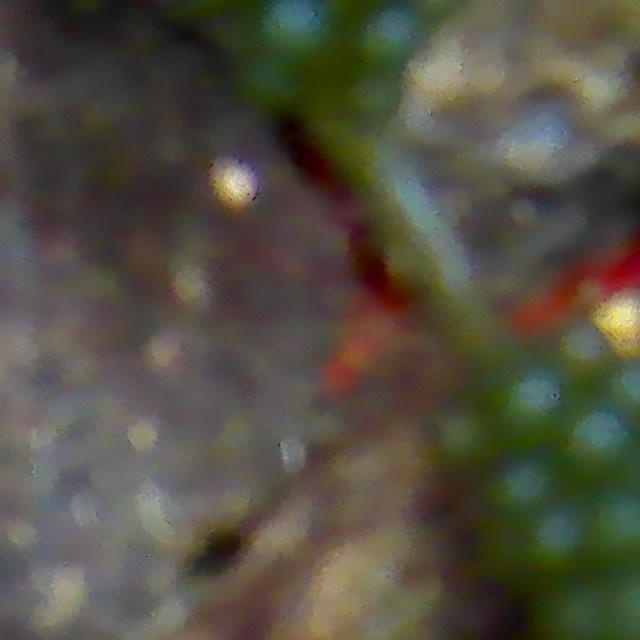SeaGrape: (536, 581, 622, 640), (524, 500, 591, 570), (360, 3, 429, 69), (567, 407, 632, 471), (501, 368, 563, 434), (263, 0, 330, 58), (592, 486, 640, 564), (495, 457, 555, 514)
